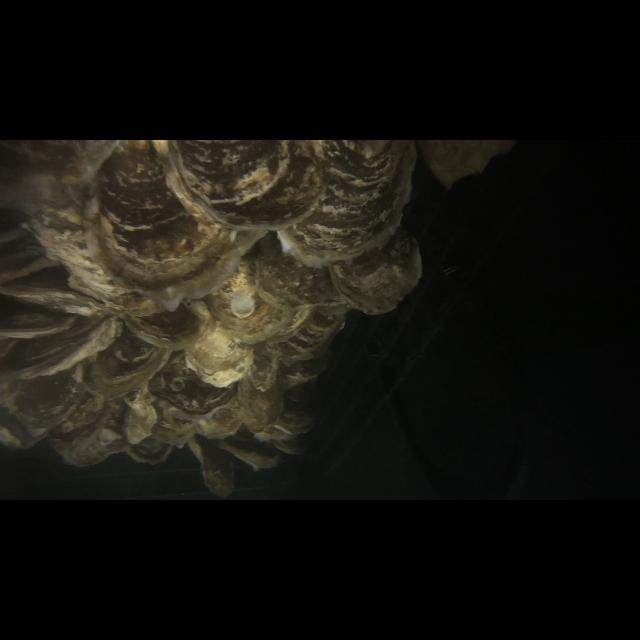Oyster-Closed: (0, 140, 164, 316), (99, 140, 264, 310), (279, 140, 417, 266), (169, 140, 321, 228), (204, 252, 312, 344), (330, 228, 422, 314), (76, 327, 170, 398), (258, 233, 344, 307), (148, 351, 238, 421), (184, 300, 253, 388), (270, 307, 342, 388), (0, 368, 84, 428), (52, 400, 128, 466), (123, 304, 201, 350), (187, 434, 233, 498), (220, 425, 280, 471), (0, 309, 76, 339), (152, 398, 196, 448), (56, 392, 104, 434), (195, 397, 242, 439), (124, 384, 156, 444), (248, 344, 278, 392), (274, 410, 314, 434)
Oyster-Open: (0, 315, 122, 379), (0, 266, 116, 316), (126, 436, 172, 464)
